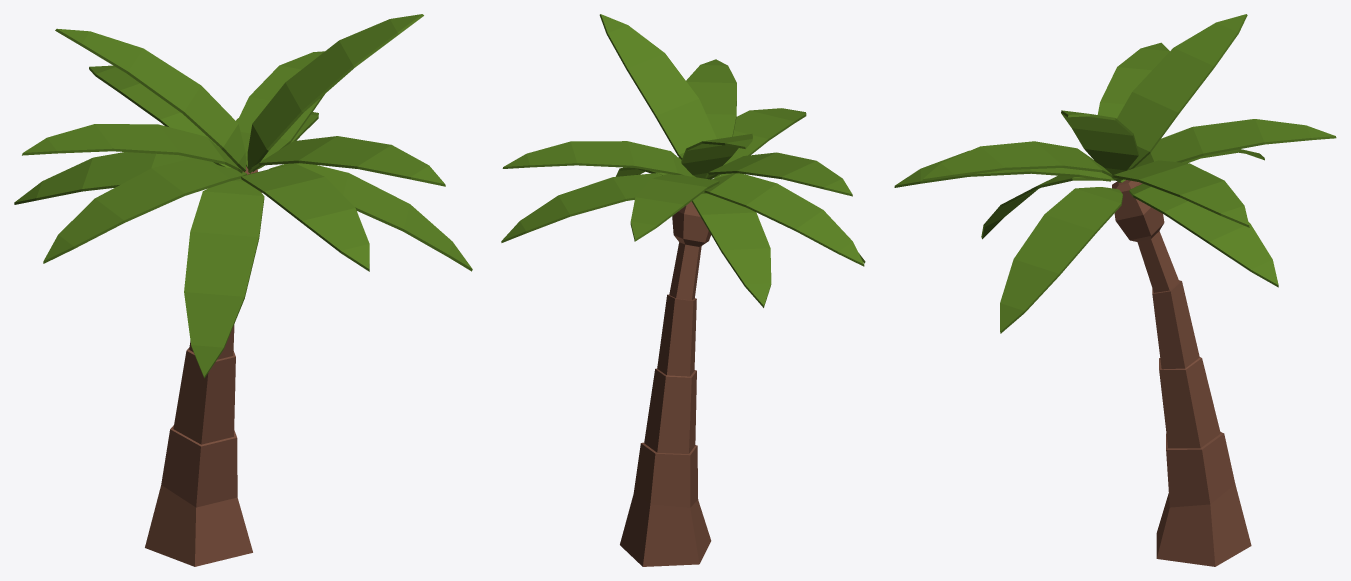
File: palm tree.fbx
The picture shows the model from 3 angles, left to right: view 1: azimuth 30°, elevation 25°; view 2: azimuth 150°, elevation 25°; view 3: azimuth 270°, elevation 25°; orthographic projection. The views are drawn at different scales.
Parts seen in each view (by area): view 1: Cylinder.005, Plane.062, Plane.071, Plane.066, Plane.067, Plane.060, Plane.065, Plane.061, Plane.069, Plane.064, Plane.063, Plane.068; view 2: Cylinder.005, Plane.066, Plane.071, Plane.064, Plane.063, Plane.070, Plane.068, Plane.065, Plane.061, Plane.060, Plane.067; view 3: Cylinder.005, Plane.069, Plane.067, Plane.070, Plane.068, Plane.061, Plane.063, Plane.066, Plane.065, Plane.060, Plane.062.
Boxes of the visible parts, x1=… form: Cylinder.005: x1=145, y1=166, x2=261, y2=566; Plane.062: x1=184, y1=178, x2=264, y2=378; Plane.071: x1=43, y1=158, x2=246, y2=263; Plane.066: x1=247, y1=14, x2=423, y2=173; Plane.067: x1=55, y1=28, x2=246, y2=171; Plane.060: x1=241, y1=163, x2=369, y2=271; Plane.065: x1=22, y1=124, x2=242, y2=173; Plane.061: x1=251, y1=136, x2=445, y2=186; Plane.069: x1=269, y1=163, x2=472, y2=271; Plane.064: x1=14, y1=152, x2=192, y2=204; Plane.063: x1=237, y1=51, x2=324, y2=168; Plane.068: x1=89, y1=65, x2=231, y2=167; Cylinder.005: x1=620, y1=201, x2=711, y2=566; Plane.066: x1=599, y1=14, x2=716, y2=159; Plane.071: x1=704, y1=173, x2=864, y2=266; Plane.064: x1=692, y1=192, x2=771, y2=307; Plane.063: x1=502, y1=141, x2=695, y2=177; Plane.070: x1=501, y1=173, x2=661, y2=242; Plane.068: x1=630, y1=174, x2=719, y2=241; Plane.065: x1=705, y1=152, x2=852, y2=196; Plane.061: x1=686, y1=59, x2=736, y2=138; Plane.060: x1=714, y1=108, x2=806, y2=177; Plane.067: x1=681, y1=134, x2=752, y2=178; Cylinder.005: x1=1112, y1=180, x2=1251, y2=566; Plane.069: x1=1000, y1=187, x2=1122, y2=333; Plane.067: x1=1117, y1=14, x2=1247, y2=170; Plane.070: x1=1129, y1=183, x2=1278, y2=287; Plane.068: x1=1134, y1=119, x2=1336, y2=168; Plane.061: x1=922, y1=141, x2=1113, y2=181; Plane.063: x1=1113, y1=160, x2=1249, y2=227; Plane.066: x1=1061, y1=110, x2=1139, y2=178; Plane.065: x1=1097, y1=42, x2=1169, y2=118; Plane.060: x1=894, y1=150, x2=1110, y2=187; Plane.062: x1=981, y1=175, x2=1114, y2=239.
Size of the model in its own units: 754 by 1069 by 861.
